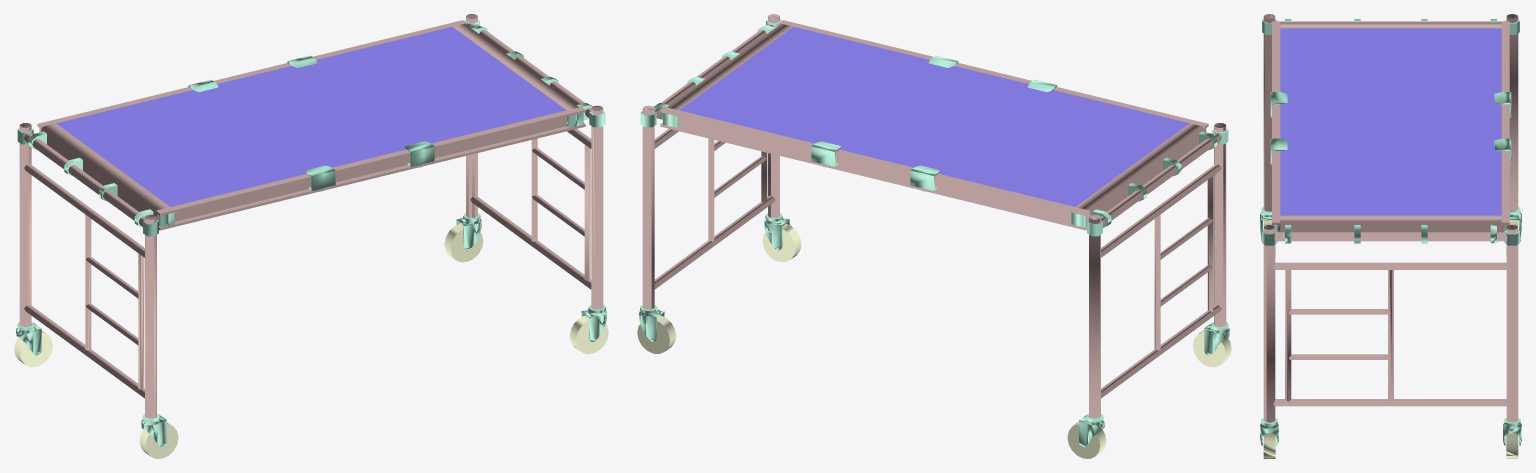
Rendered from construction_scaffold_base_04x02x02_b.glb.
3 renders of one model, left to right at view 1: azimuth 30°, elevation 25°; view 2: azimuth 150°, elevation 25°; view 3: azimuth 270°, elevation 25°, orthographic. The views are drawn at different scales.
Size of the model in its own units: 4.02 by 2.01 by 2.03.
